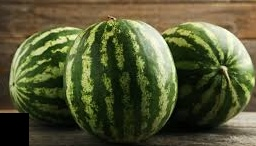watermelon: (66, 16, 177, 138), (10, 21, 92, 130), (176, 23, 255, 134)
